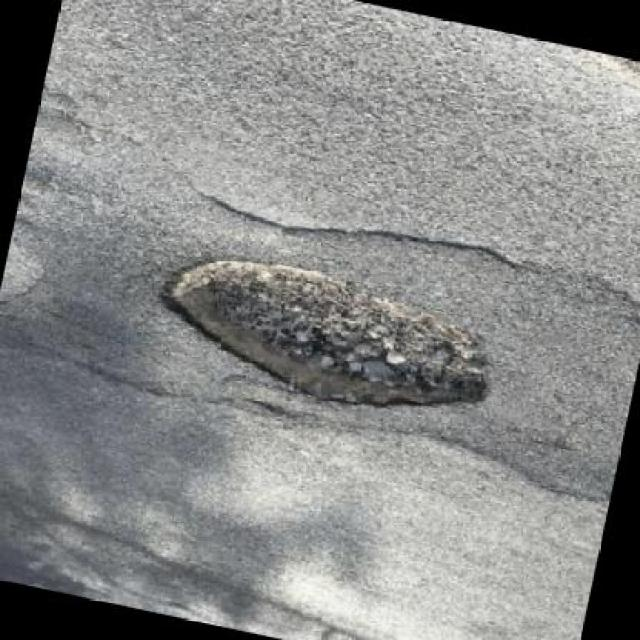pothole1: (135, 240, 507, 442)
